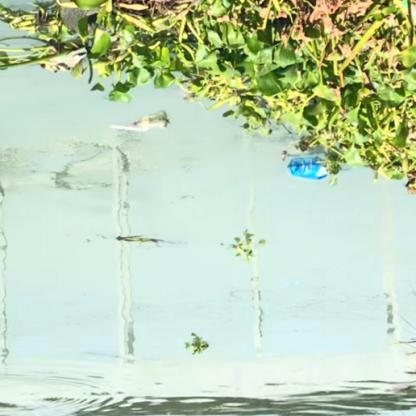Plastic: (287, 158, 340, 184)
Trash: (109, 114, 172, 135)
